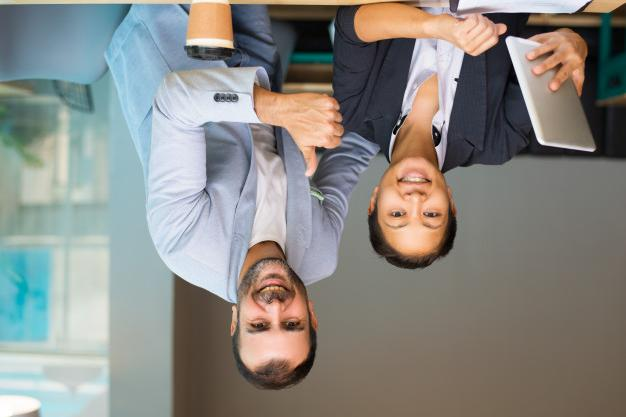thumbsdown: (299, 92, 344, 177)
